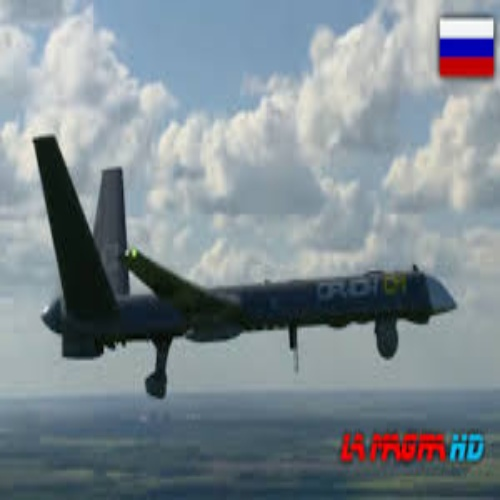uav: (29, 135, 461, 401)
